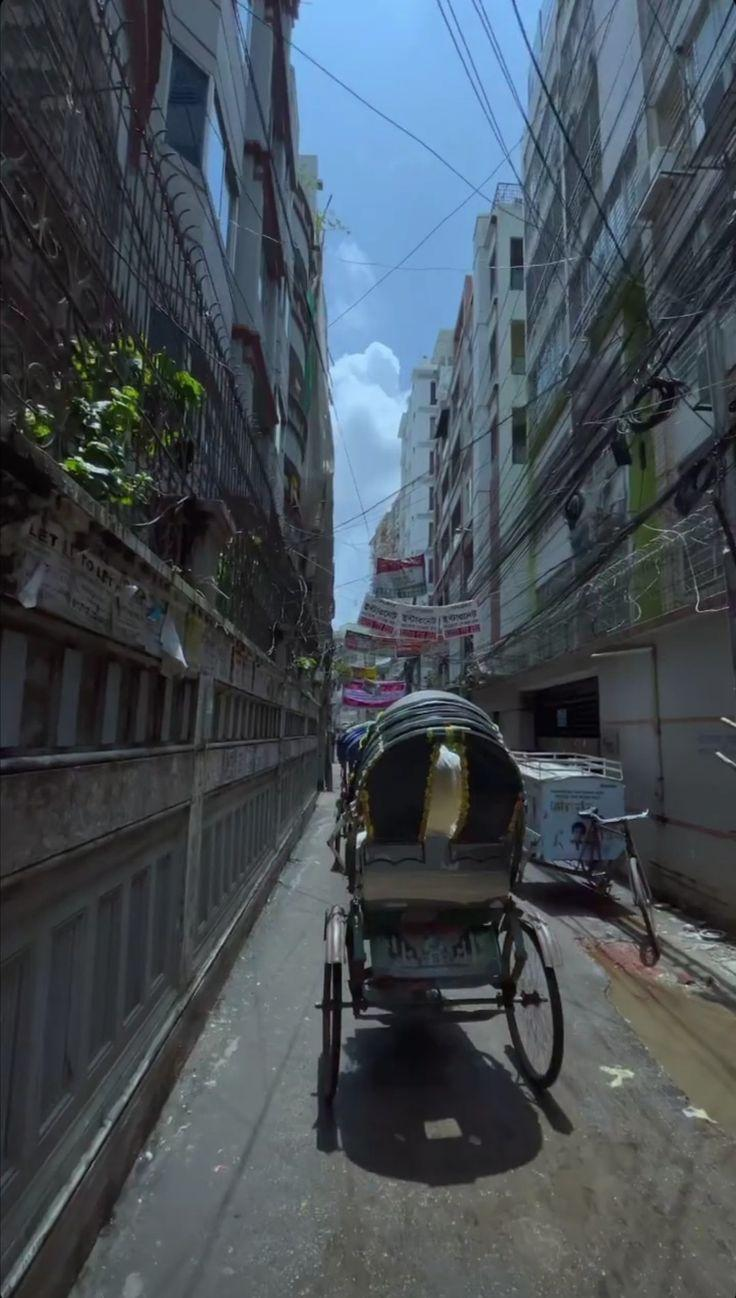Rickshaw: (316, 690, 564, 1108)
